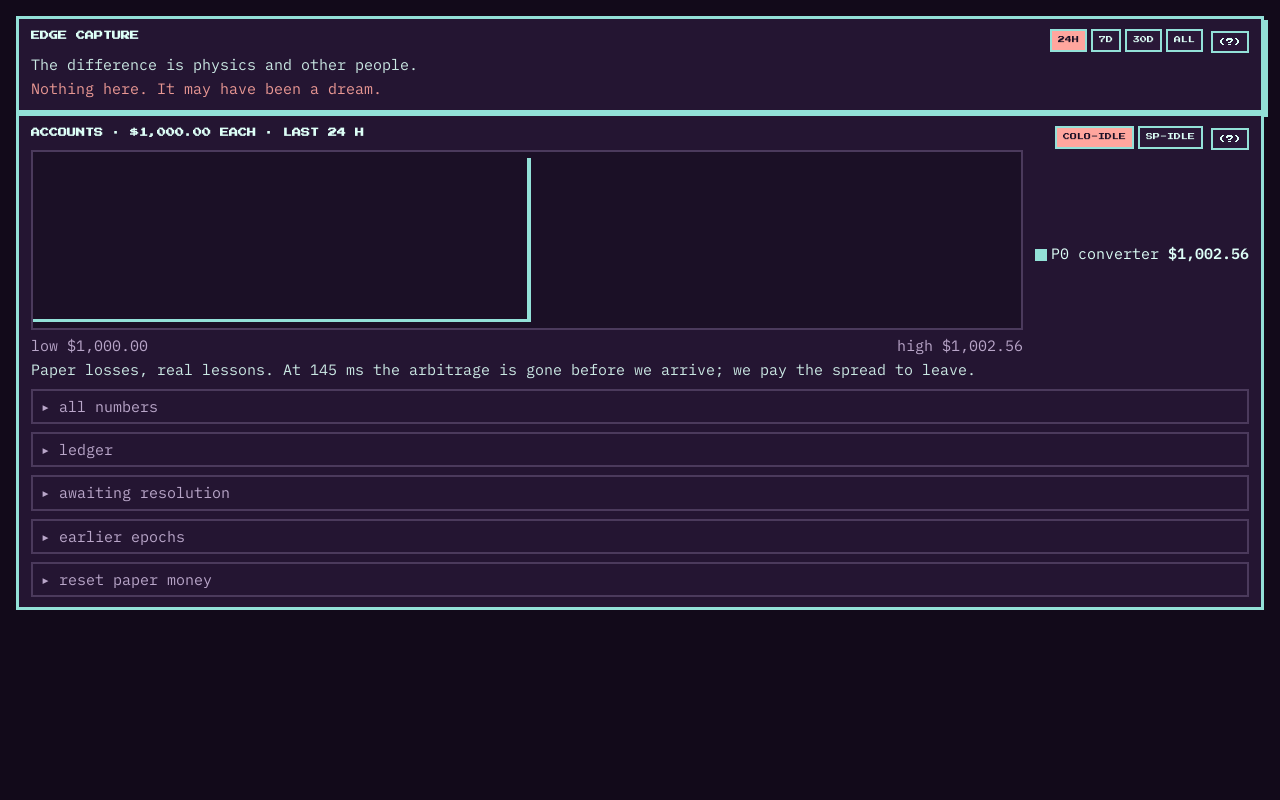
Test: Paper › earlier epochs: a failed /api/paper/epochs shows the error, not "no epoch data" (M4)
Click the heading "earlier epochs": coordinates (122, 536) [59,526,185,546]
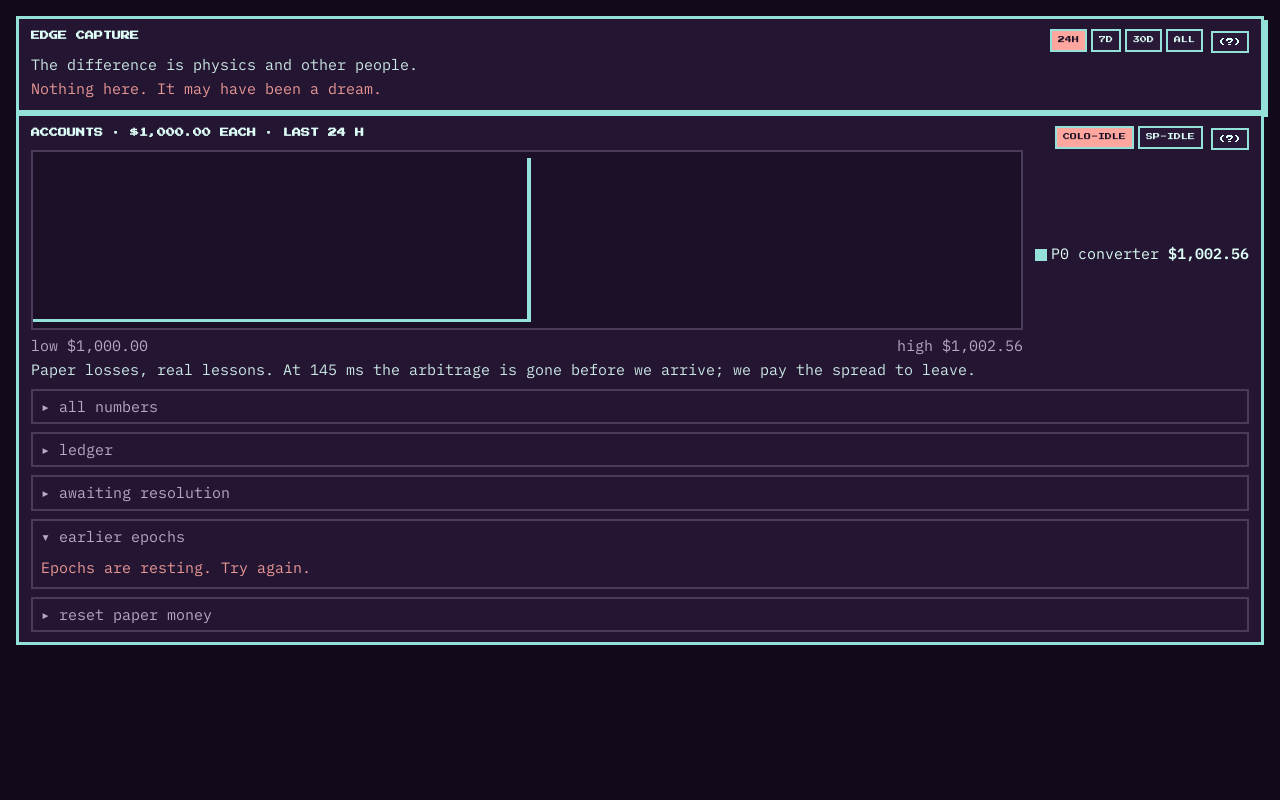
Check: the text "Epochs are resting. Try again." is shown, box [41,558,311,577]
